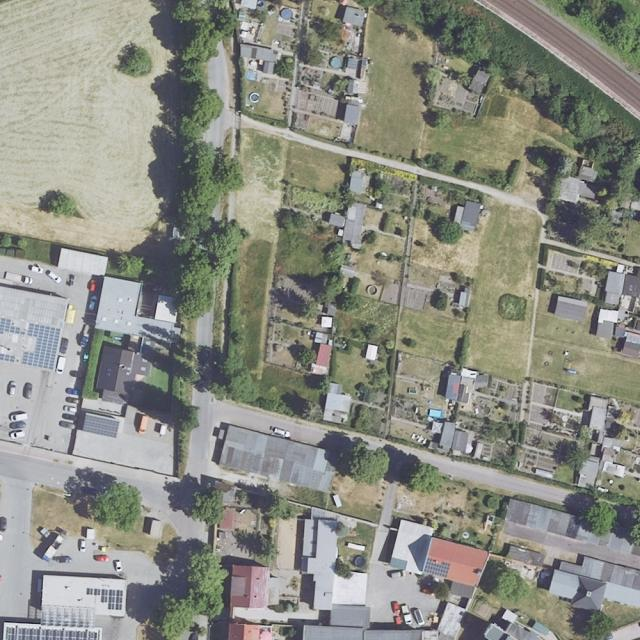PV: (21, 322, 61, 370), (6, 627, 98, 639), (83, 413, 120, 439), (87, 589, 123, 610), (423, 557, 450, 578), (0, 318, 25, 336), (1, 354, 15, 362)
